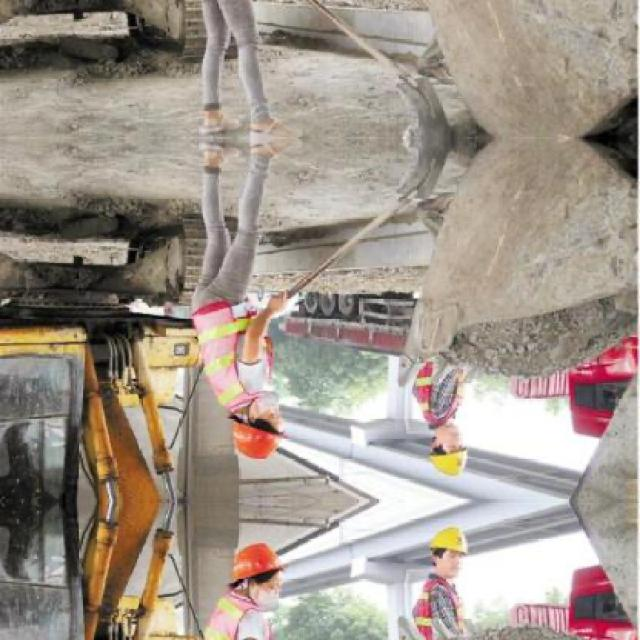con casco: (214, 526, 294, 588), (211, 408, 285, 464), (389, 524, 466, 574), (411, 436, 480, 482)
